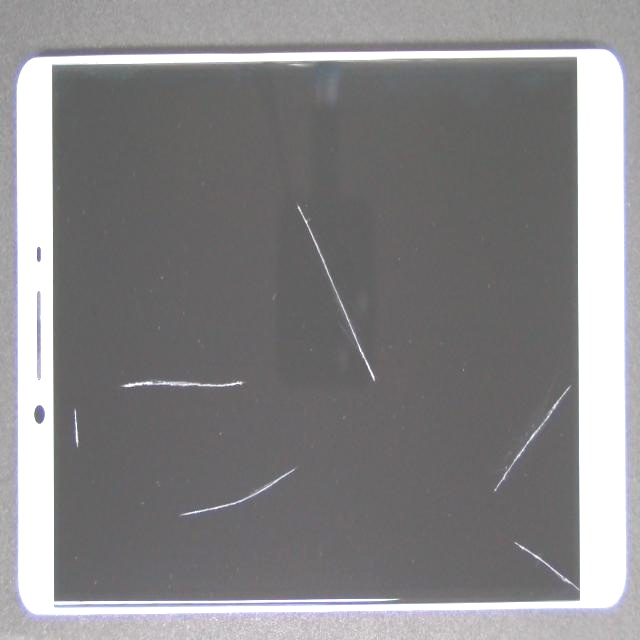scratch: (223, 203, 395, 640), (248, 292, 545, 478), (38, 159, 106, 619)
